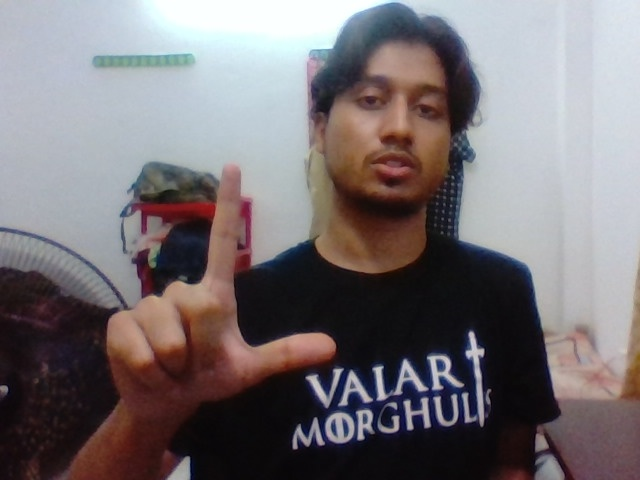L: (145, 149, 342, 372)
